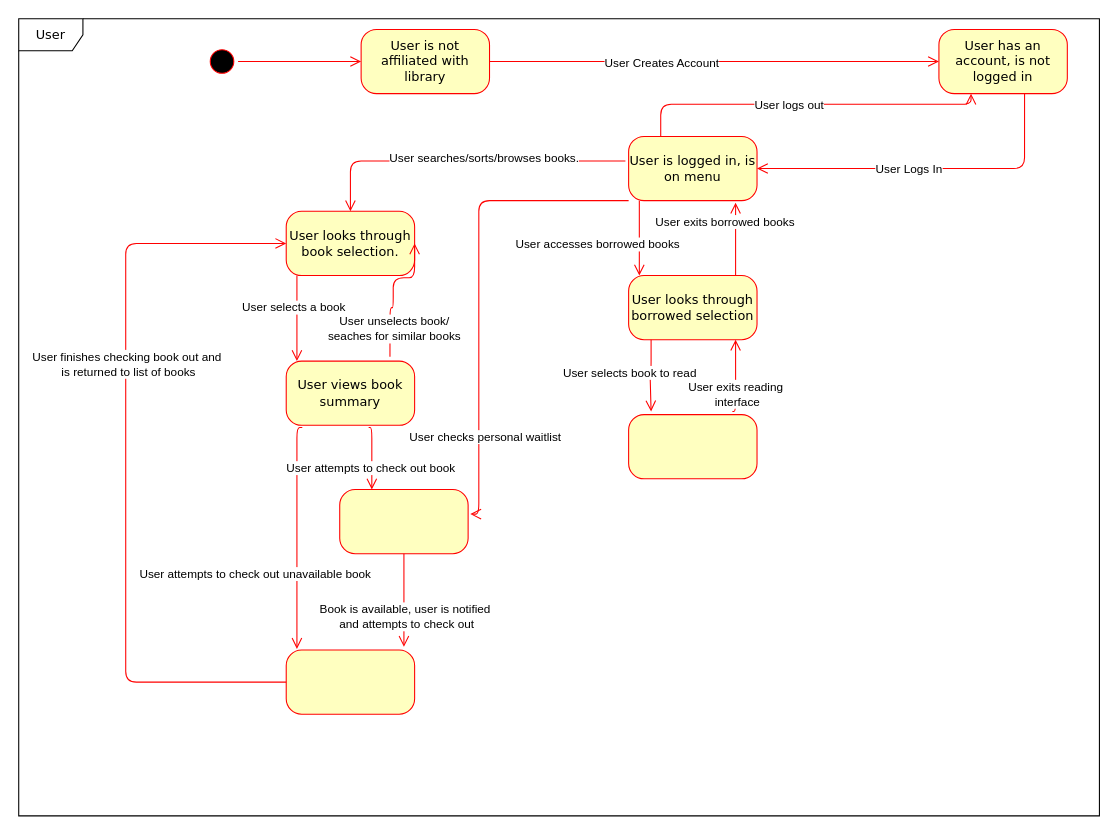
The diagram is 1118 pixels wide and 835 high, and some of its shapes have lost their labels. The centre of each missing label's shape, as x and y in pixels:
"User checks book out" goes at point 350,681.
"User is kept on waitlist" goes at point 403,521.
"User is reading book" goes at point 692,446.
